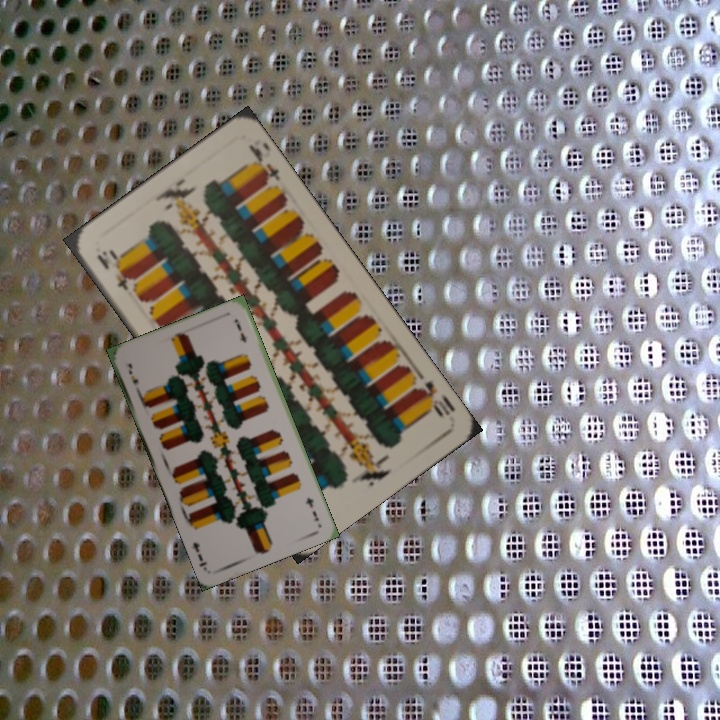E10: (407, 373, 457, 421), (92, 246, 133, 293)
E7: (124, 359, 143, 396), (302, 493, 321, 524)
